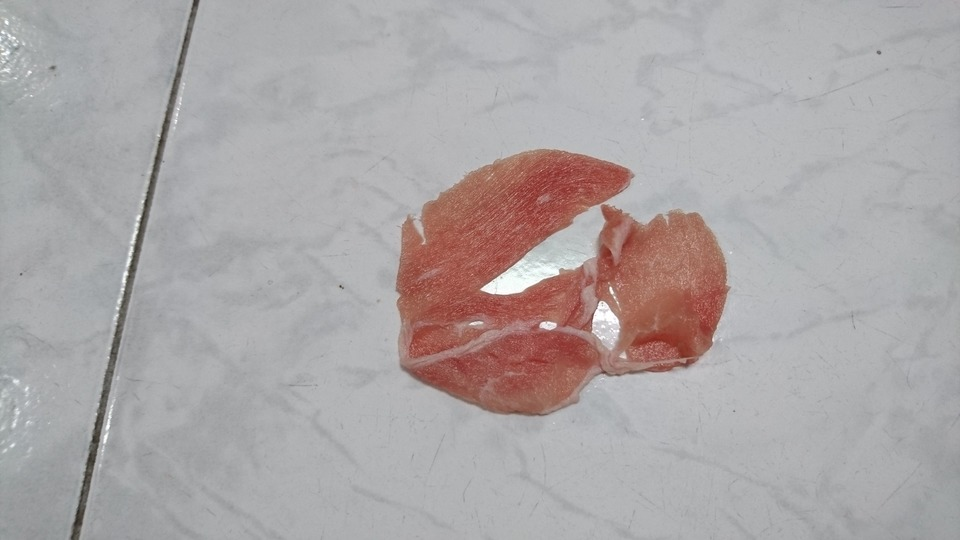restructured meat: (394, 141, 731, 422)
